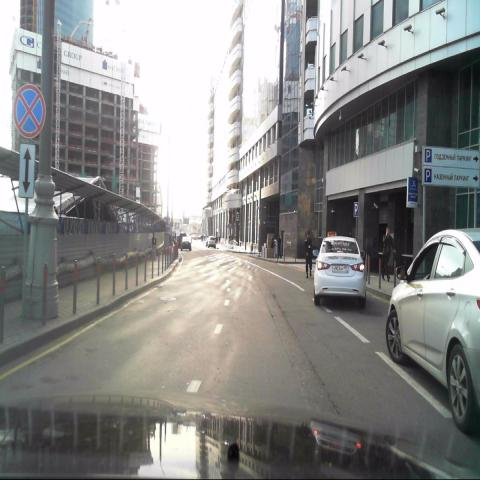3_27: (12, 84, 46, 140)
8_2_4: (18, 138, 36, 198)
